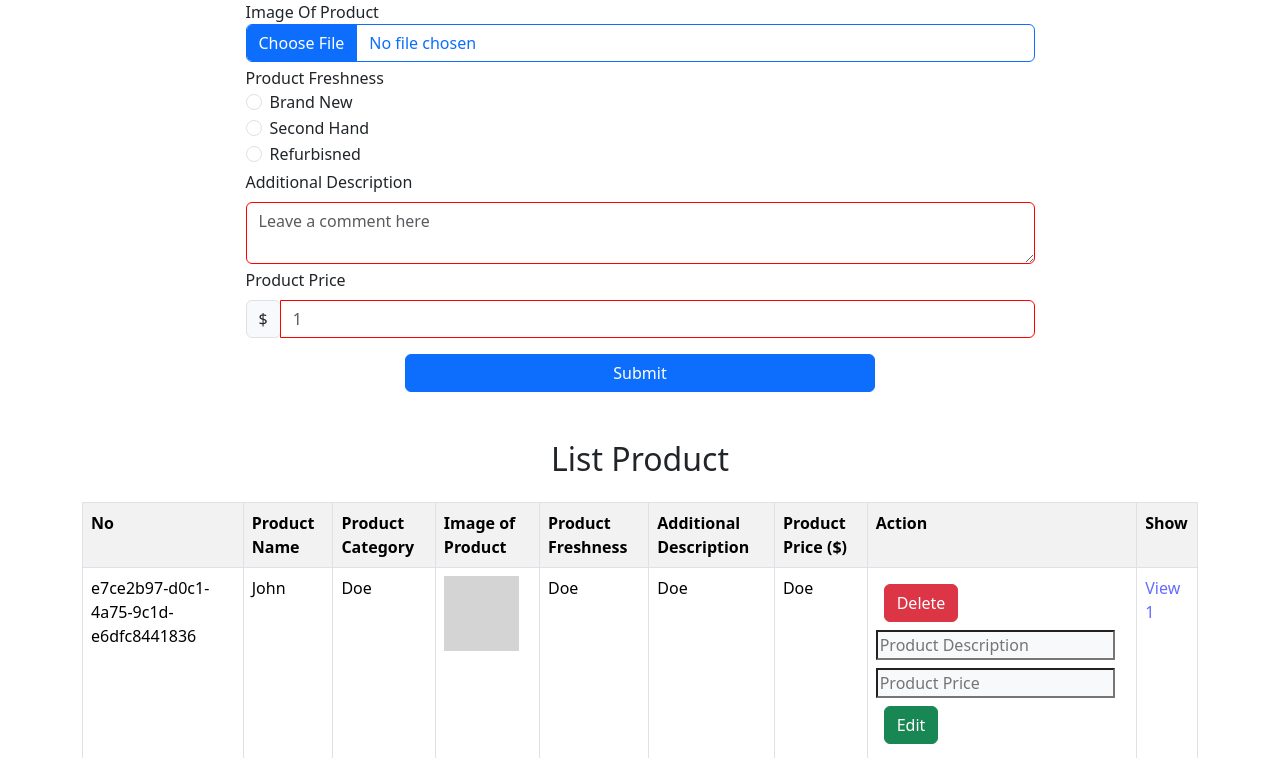
Test: CreateProduct › Product Name Should not Empty
(page scrolled)
Click the button with test id "submitTest": (640, 373) [405,354,875,392]
(page scrolled)
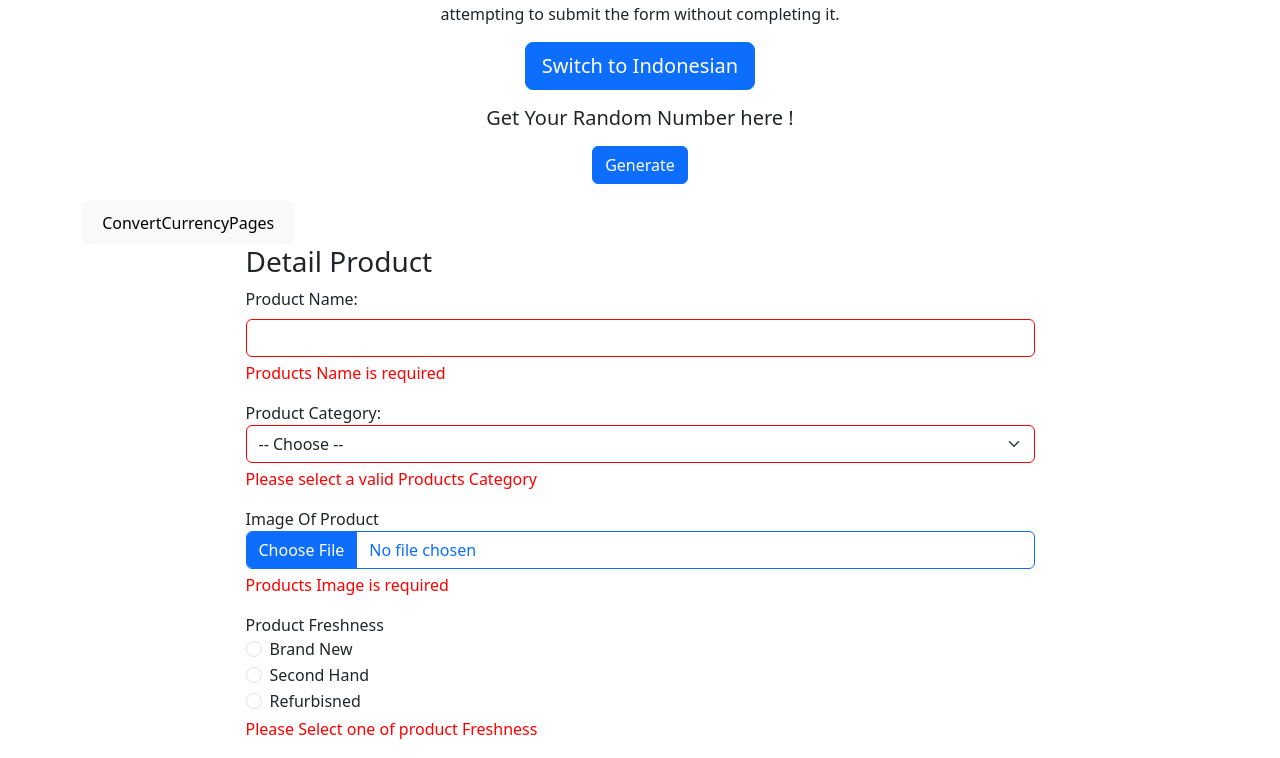
Expected: the text "Products Name is required" is shown, [246,361,446,385]
